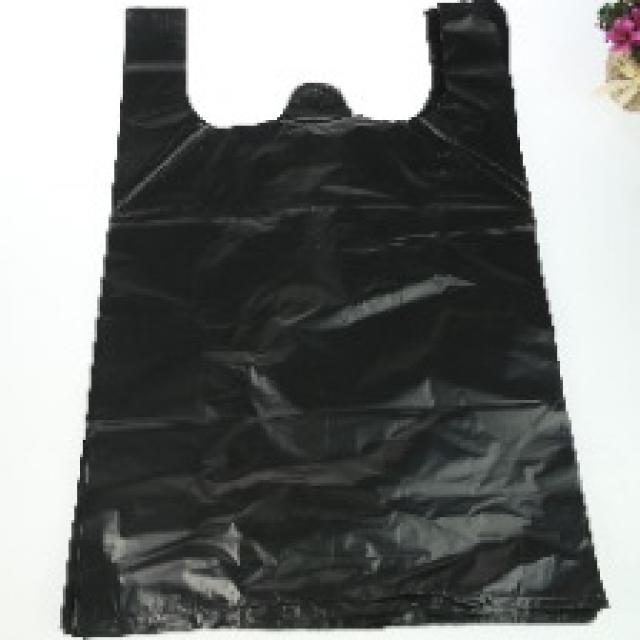plastic_bag: (109, 15, 602, 631)
